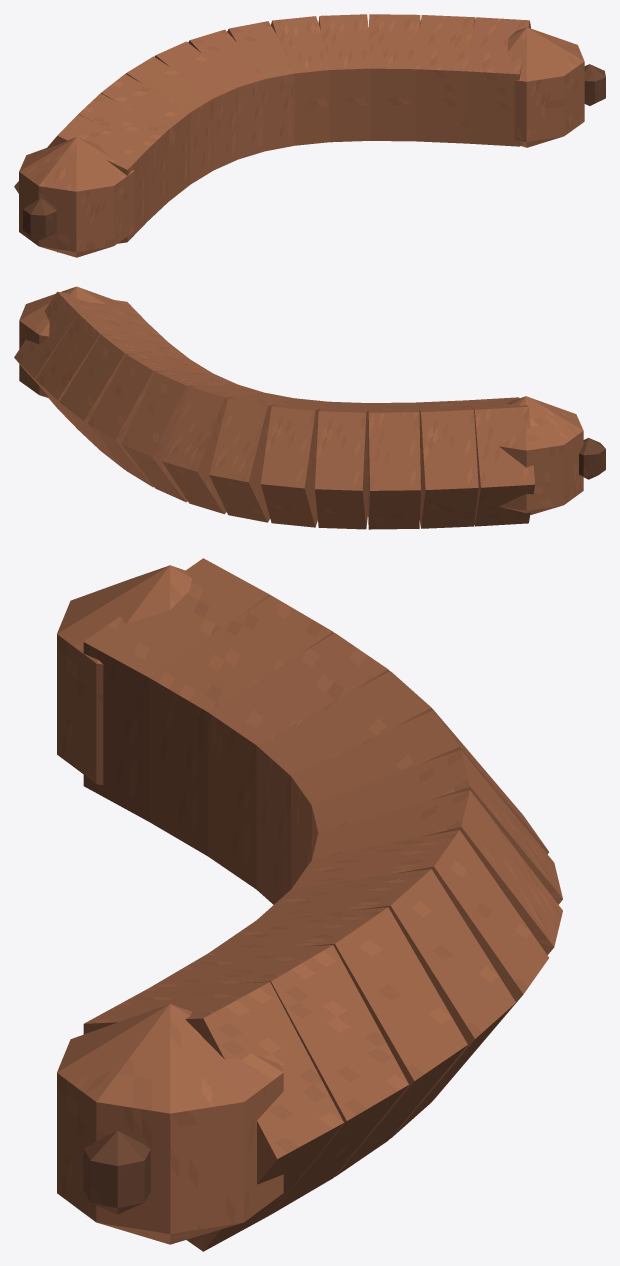
Rendered from sausage.glb.
3 renders of one model, top to bottom at view 1: azimuth 30°, elevation 25°; view 2: azimuth 150°, elevation 25°; view 3: azimuth 270°, elevation 25°, orthographic. The views are drawn at different scales.
Parts seen in each view (by area): view 1: block_rounded end (×2), block_curved casing 10, block_curved casing 11, block_curved casing 9, block_curved casing 8, block_curved casing 7, block_curved casing 6, block_curved casing 5, block_curved casing 4, block_curved casing 3, block_curved casing 2, block_curved casing 1 (+2 smaller); view 2: block_rounded end (×2), block_curved casing 1, block_curved casing 2, block_curved casing 3, block_curved casing 4, block_curved casing 5, block_curved casing 0, block_curved casing 6, block_curved casing 7, block_curved casing 8, block_curved casing 9, block_curved casing 10 (+2 smaller); view 3: block_rounded end (×2), block_curved casing 10, block_curved casing 1, block_curved casing 9, block_curved casing 11, block_curved casing 0, block_curved casing 2, block_curved casing 8, block_curved casing 3, block_curved casing 7, block_curved casing 6, block_curved casing 4 (+2 smaller).
Part boxes in pixels (<box>): block_rounded end (×2): <box>19,27,584,257</box>; block_curved casing 10: <box>416,15,474,143</box>; block_curved casing 11: <box>466,17,530,146</box>; block_curved casing 9: <box>368,14,420,141</box>; block_curved casing 8: <box>318,14,369,142</box>; block_curved casing 7: <box>271,16,329,145</box>; block_curved casing 6: <box>227,21,294,151</box>; block_curved casing 5: <box>188,29,264,159</box>; block_curved casing 4: <box>154,41,238,170</box>; block_curved casing 3: <box>126,56,213,184</box>; block_curved casing 2: <box>100,74,190,201</box>; block_curved casing 1: <box>78,93,168,220</box>; block_rounded end (×2): <box>19,286,583,514</box>; block_curved casing 1: <box>415,400,478,528</box>; block_curved casing 2: <box>368,402,420,529</box>; block_curved casing 3: <box>315,401,369,529</box>; block_curved casing 4: <box>261,398,328,527</box>; block_curved casing 5: <box>209,392,293,522</box>; block_curved casing 0: <box>466,397,534,526</box>; block_curved casing 6: <box>162,384,263,514</box>; block_curved casing 7: <box>121,372,236,502</box>; block_curved casing 8: <box>87,354,212,487</box>; block_curved casing 9: <box>60,334,189,469</box>; block_curved casing 10: <box>36,313,167,449</box>; block_rounded end (×2): <box>57,565,283,1244</box>; block_curved casing 10: <box>149,945,408,1214</box>; block_curved casing 1: <box>149,595,333,856</box>; block_curved casing 9: <box>208,907,467,1176</box>; block_curved casing 11: <box>83,982,343,1251</box>; block_curved casing 0: <box>83,558,270,821</box>; block_curved casing 2: <box>208,633,389,888</box>; block_curved casing 8: <box>257,869,515,1138</box>; block_curved casing 3: <box>256,671,433,904</box>; block_curved casing 7: <box>291,830,548,1099</box>; block_curved casing 6: <box>312,790,562,955</box>; block_curved casing 4: <box>291,710,548,888</box>.
Size of the model in its own units: 0.1512 by 0.0302 by 0.0574.
1 material, 1 textured.
